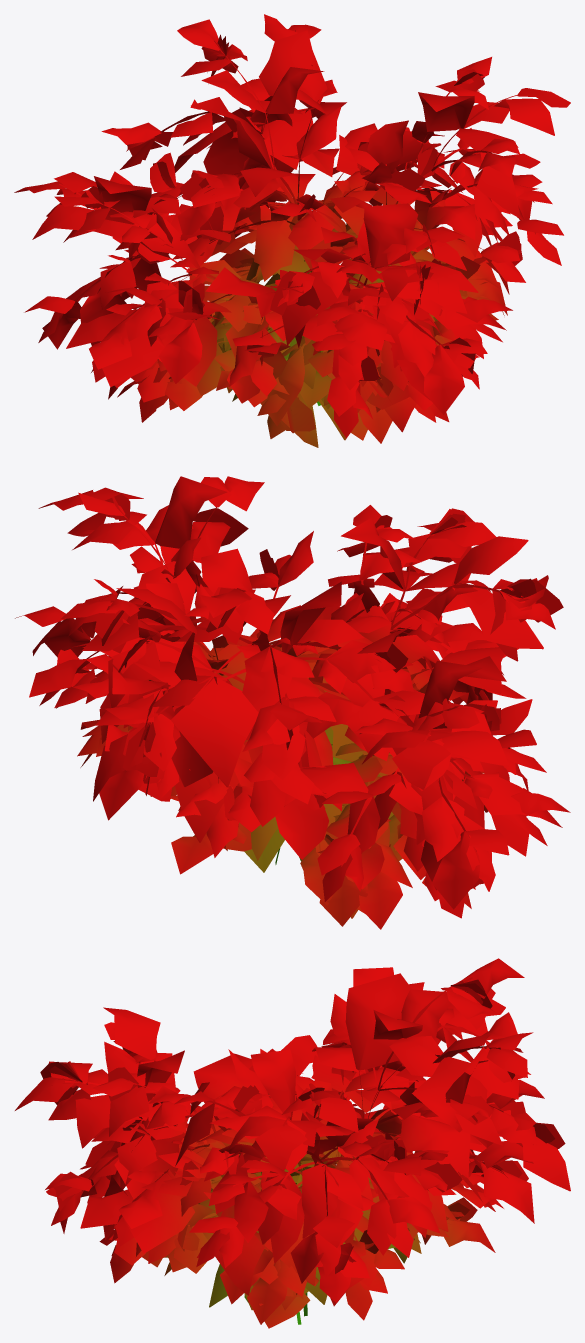
Rendered from Bush2.fbx.
3 views of the same model, one above another, from view 1: azimuth 30°, elevation 25°; view 2: azimuth 150°, elevation 25°; view 3: azimuth 270°, elevation 25° (orthographic). The views are drawn at different scales.
Visible parts, largest first — view 1: Bush2_LOD0; view 2: Bush2_LOD0; view 3: Bush2_LOD0.
Part boxes in pixels (x1,y1,x2,y2): Bush2_LOD0: (14, 14, 570, 447); Bush2_LOD0: (15, 476, 570, 929); Bush2_LOD0: (15, 958, 570, 1328).
Size of what is drawn, in the model's own units: 231 by 148 by 226.
